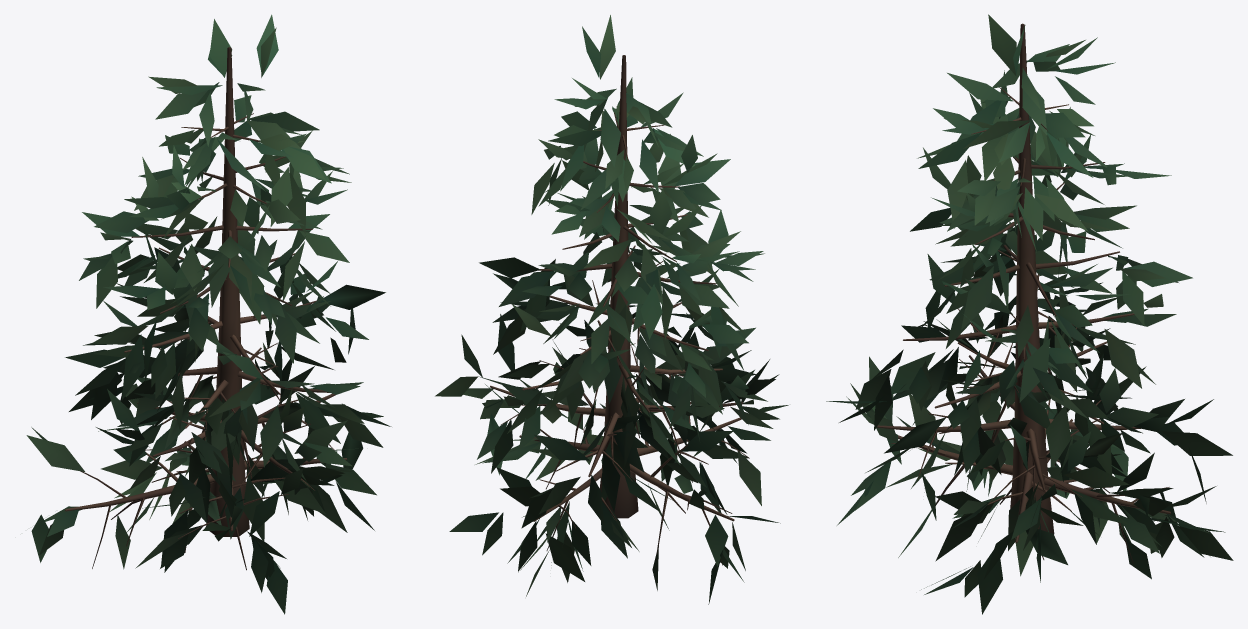
Rendered from spruce-b.lod1.glb.
3 renders of one model, left to right at view 1: azimuth 30°, elevation 25°; view 2: azimuth 150°, elevation 25°; view 3: azimuth 270°, elevation 25°, orthographic. The views are drawn at different scales.
Size of the model in its own units: 5.82 by 8.72 by 5.55.
